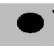correct: (15, 11, 46, 37)
